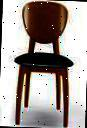Silla: (12, 0, 75, 127)
